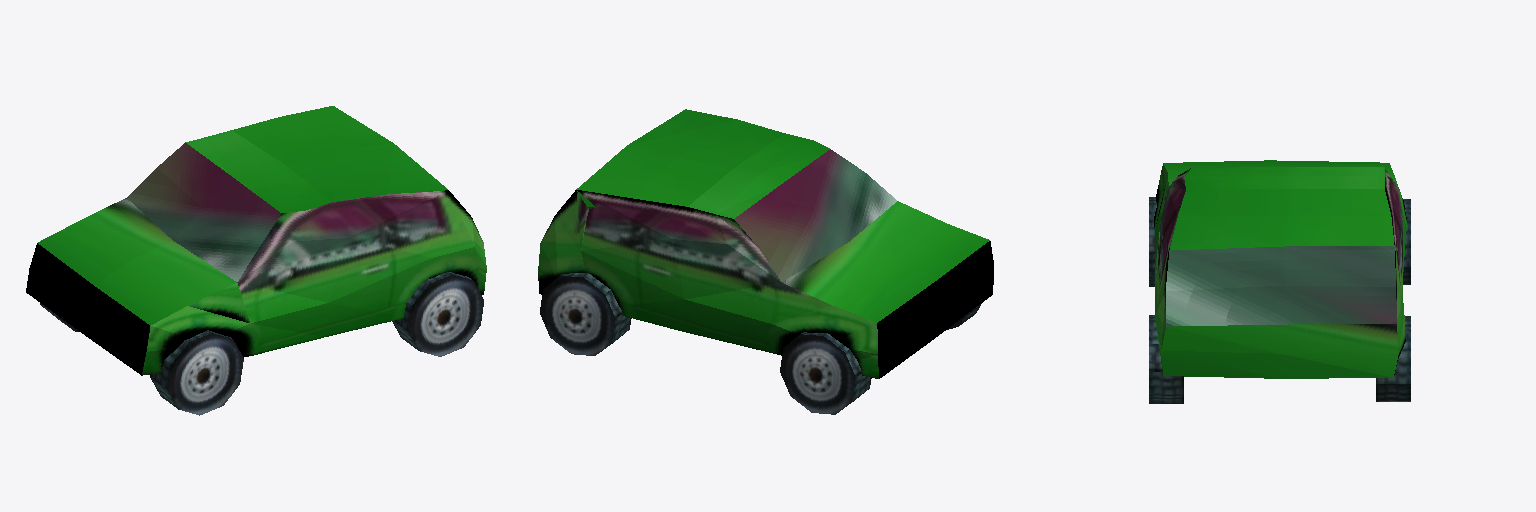
3 renders of one model, left to right at view 1: azimuth 30°, elevation 25°; view 2: azimuth 150°, elevation 25°; view 3: azimuth 270°, elevation 25°, orthographic.
Parts seen in each view (by area): view 1: Plane, Circle.005_Circle.007, Circle_Circle.006; view 2: Plane, Circle.004, Circle.002_Circle.005; view 3: Plane, Circle_Circle.006, Circle.004, Circle.005_Circle.007.
Part boxes in pixels (bbox=[...]): Plane: bbox=[26, 106, 486, 375]; Circle.005_Circle.007: bbox=[150, 330, 243, 415]; Circle_Circle.006: bbox=[392, 272, 483, 356]; Plane: bbox=[538, 109, 993, 378]; Circle.004: bbox=[540, 273, 631, 355]; Circle.002_Circle.005: bbox=[780, 332, 871, 414]; Plane: bbox=[1154, 160, 1406, 378]; Circle_Circle.006: bbox=[1149, 315, 1183, 403]; Circle.004: bbox=[1376, 316, 1410, 401]; Circle.005_Circle.007: bbox=[1149, 197, 1156, 286].
Size of the model in its own units: 1.29 by 0.5888 by 0.851.
Materials: 2 (1 with a texture image).